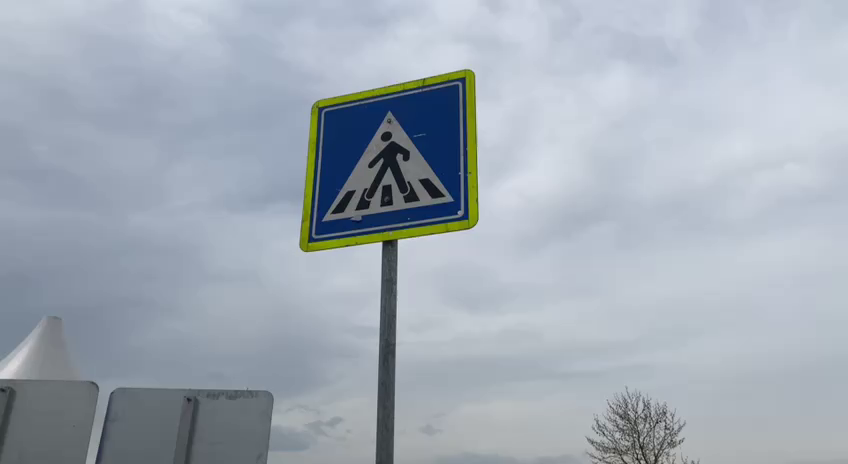pedestrianCrossing: (296, 65, 479, 253)
